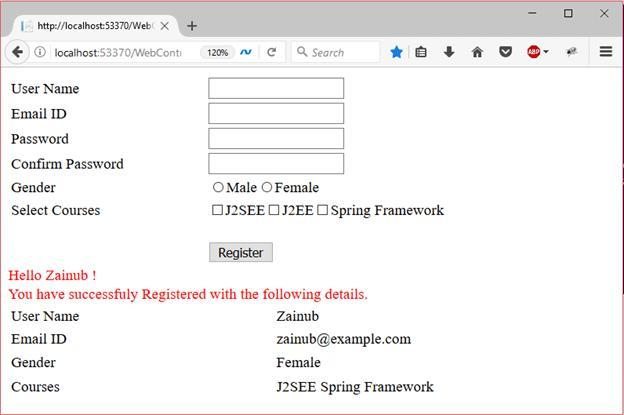button: (211, 242, 275, 264)
checkbox: (212, 203, 226, 217), (269, 204, 281, 217), (318, 204, 329, 218)
icon: (527, 44, 552, 62), (388, 43, 406, 61), (598, 44, 616, 62), (10, 44, 28, 62), (415, 44, 432, 62), (32, 44, 50, 61), (499, 44, 515, 61), (470, 45, 486, 61), (443, 44, 457, 61), (266, 45, 281, 59)
input: (210, 78, 345, 100), (210, 104, 345, 125), (209, 129, 346, 149), (209, 154, 346, 174), (293, 42, 381, 64)
label: (8, 151, 131, 174), (12, 199, 107, 219), (332, 203, 448, 219), (9, 128, 78, 151), (13, 79, 84, 99), (11, 104, 70, 124), (10, 181, 59, 196), (227, 181, 260, 198), (228, 204, 267, 218), (284, 204, 315, 221), (278, 183, 320, 195)
radio: (261, 181, 274, 195), (212, 181, 225, 194)
